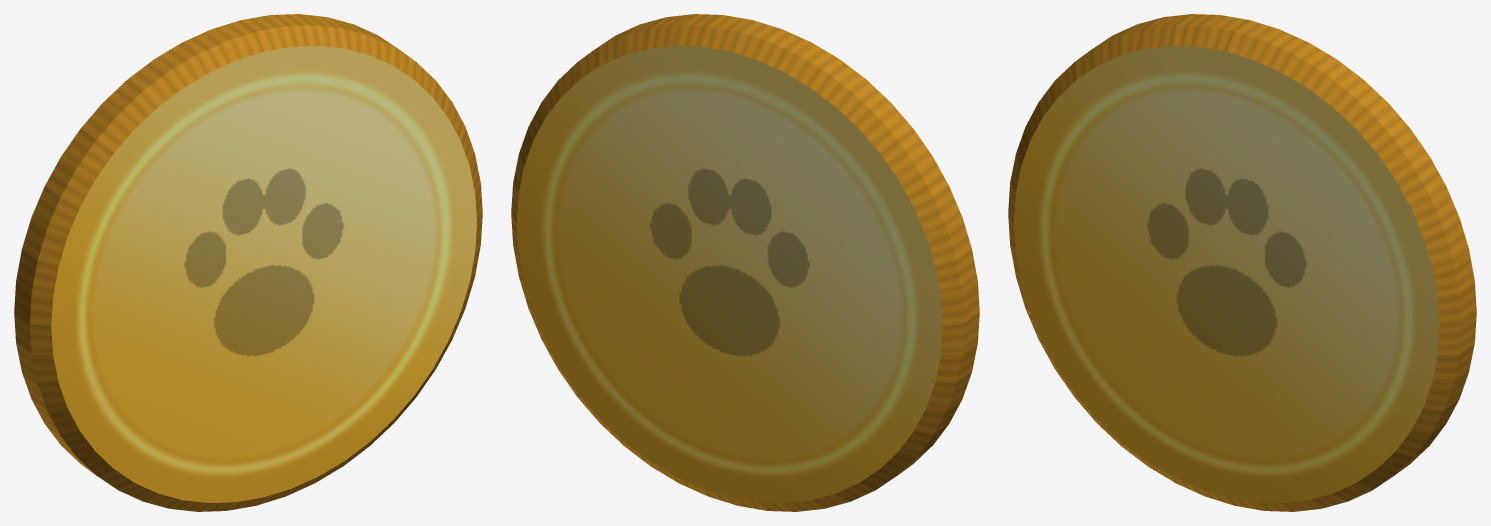
File: Coin.fbx
3 renders of one model, left to right at view 1: azimuth 30°, elevation 25°; view 2: azimuth 150°, elevation 25°; view 3: azimuth 330°, elevation 25°, orthographic.
Visible parts, largest first — view 1: Coin; view 2: Coin; view 3: Coin.
Part boxes in pixels (x1,y1,x2,y2): Coin: (14, 14, 482, 511); Coin: (511, 14, 979, 511); Coin: (1008, 14, 1476, 511).
Bounding box in the file's own units: 1 × 1 × 0.12.
Materials: 1 (1 with a texture image).
